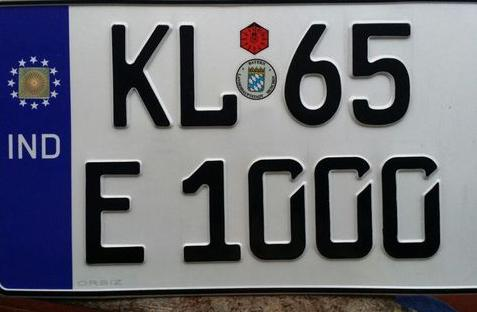0: (376, 151, 442, 260), (310, 154, 376, 260), (243, 154, 307, 262)
1: (180, 155, 243, 263)
5: (343, 18, 415, 125)
6: (283, 19, 341, 127)
E: (78, 155, 151, 269)
K: (108, 18, 173, 127)
L: (173, 20, 241, 131)
